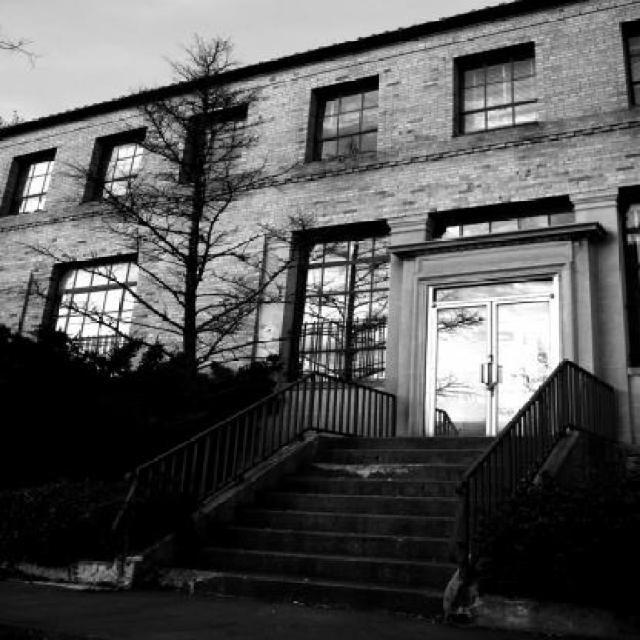stair: (132, 436, 560, 622)
